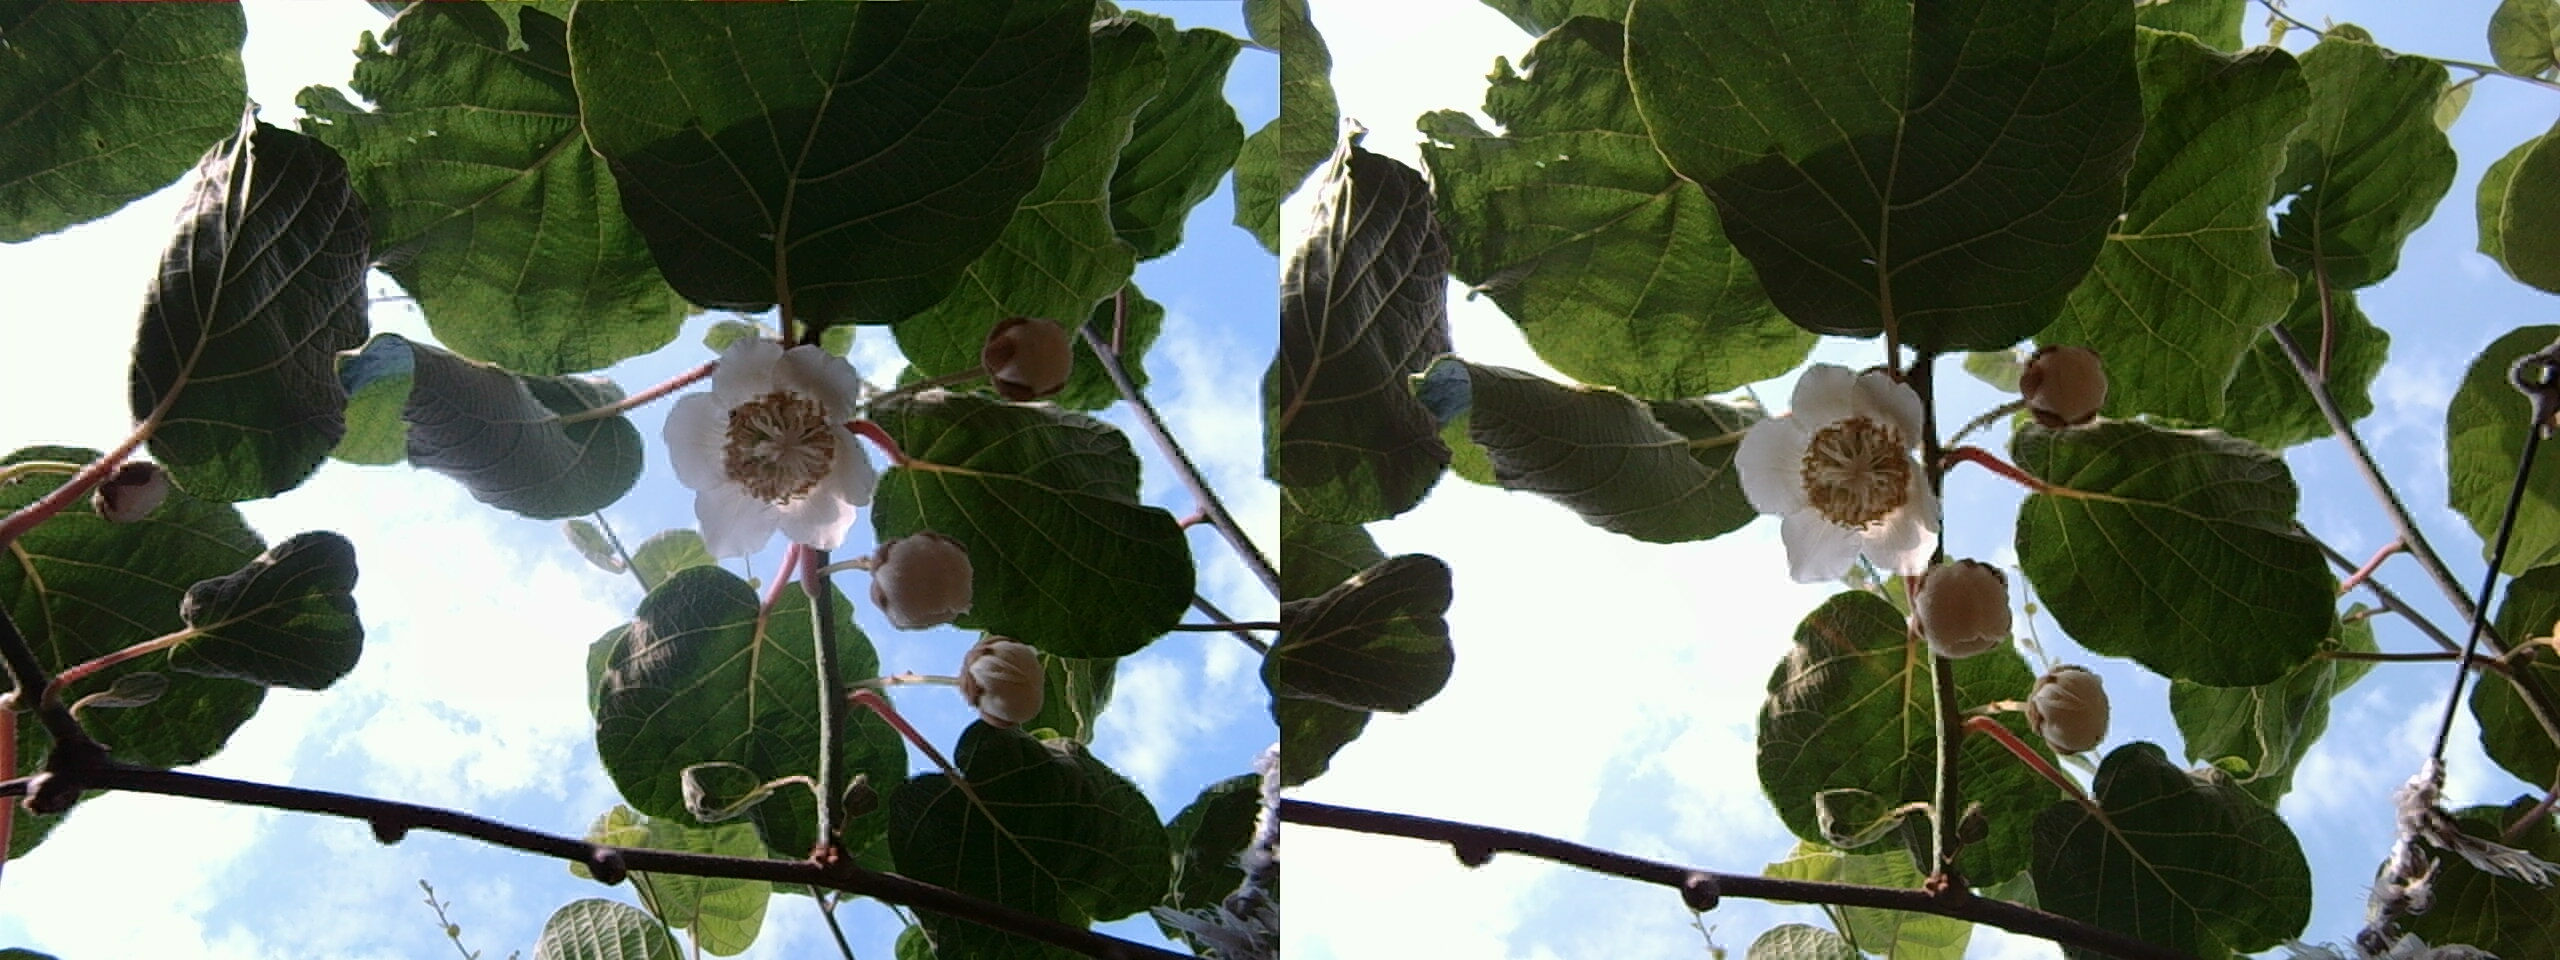flower: (655, 322, 891, 570), (1732, 354, 1944, 584)
